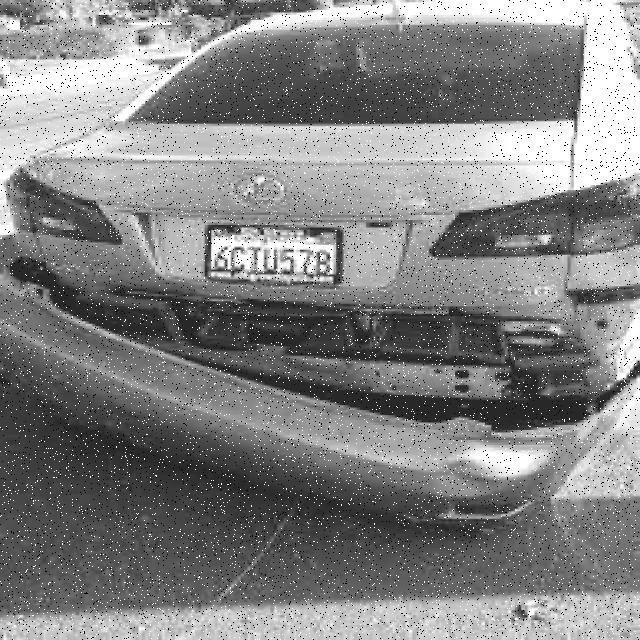car damage: (4, 258, 631, 528)
